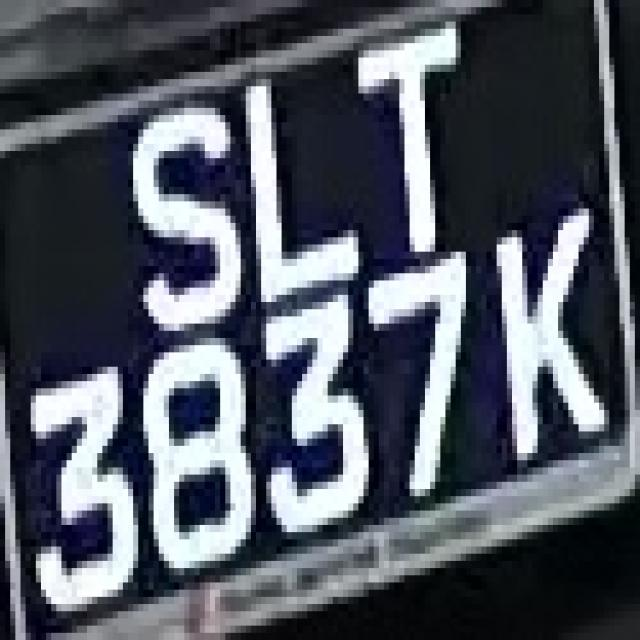3: (20, 352, 148, 612), (251, 295, 379, 554)
7: (364, 259, 482, 510)
8: (138, 323, 256, 590)
K: (486, 202, 624, 460)
L: (225, 65, 358, 295)
S: (107, 79, 235, 324)
T: (338, 21, 481, 259)
